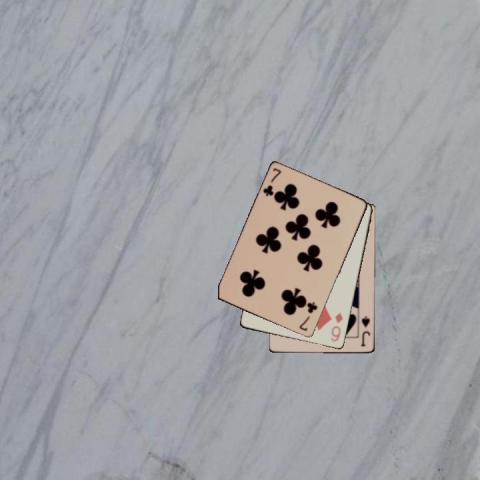6d: (328, 310, 344, 343)
7c: (296, 299, 319, 333), (260, 165, 283, 198)
Js: (358, 313, 371, 348)
